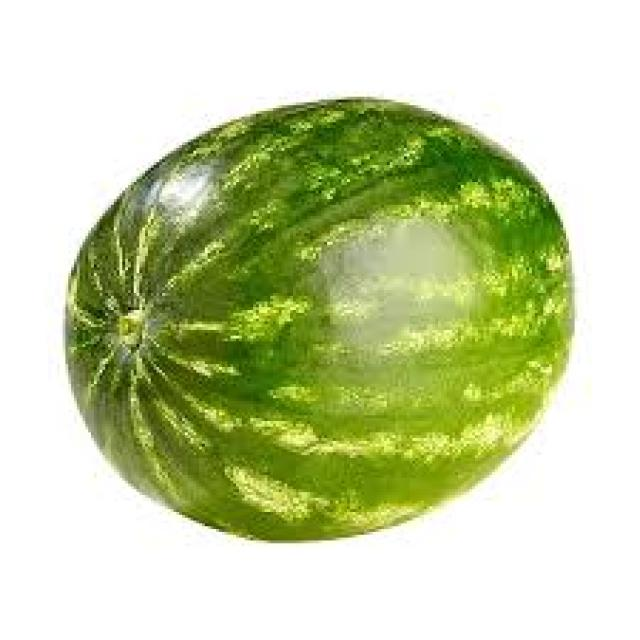Watermelon: (73, 100, 580, 539)
